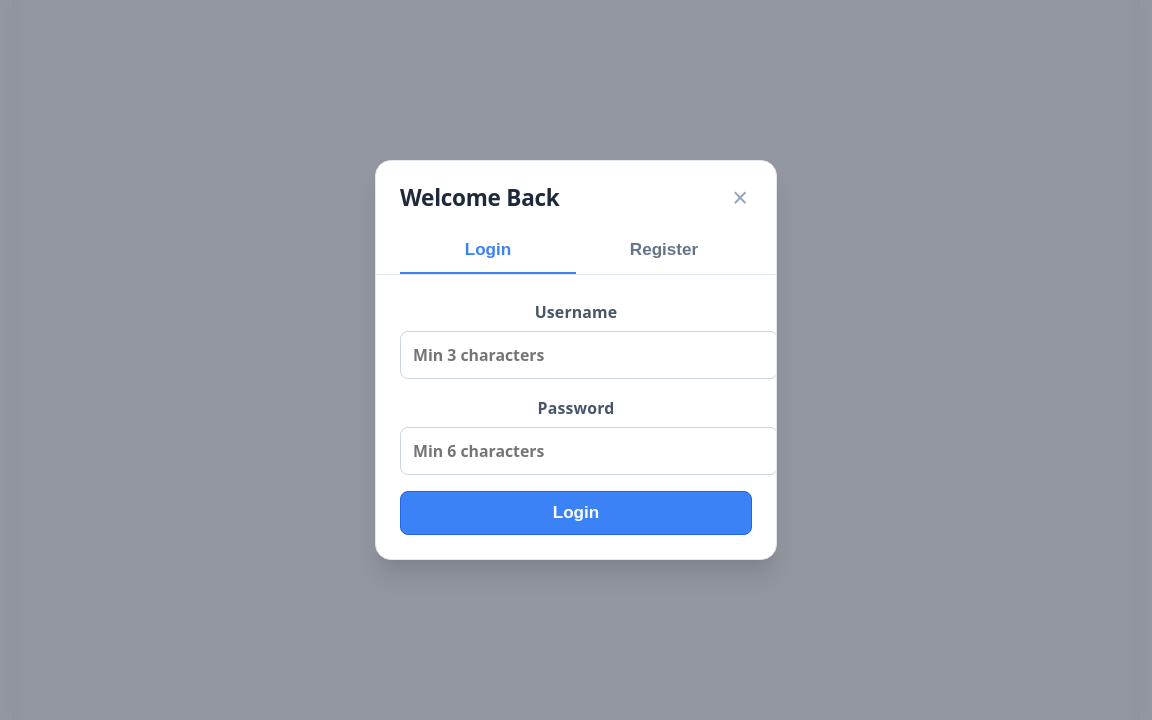
Test: AuthModal.vue › validates username (min 3 chars) and password (min 6 chars)
Note: Submit empty fields
Submit the form, box [376,275,776,559]
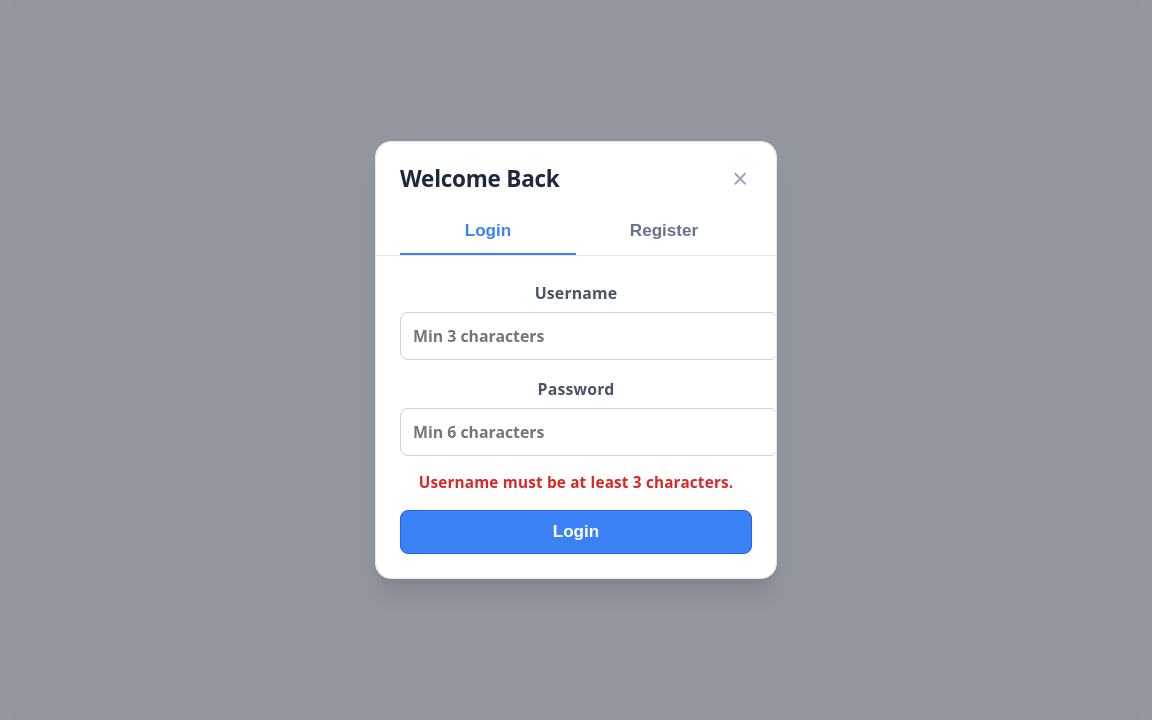
Expected: the message with test id "error" reads "Username must be at least 3 characters.", [419,472,733,492]
Note: Submit username too short
In the field with test id "username": (589, 336) [400,312,778,360], type "ab"
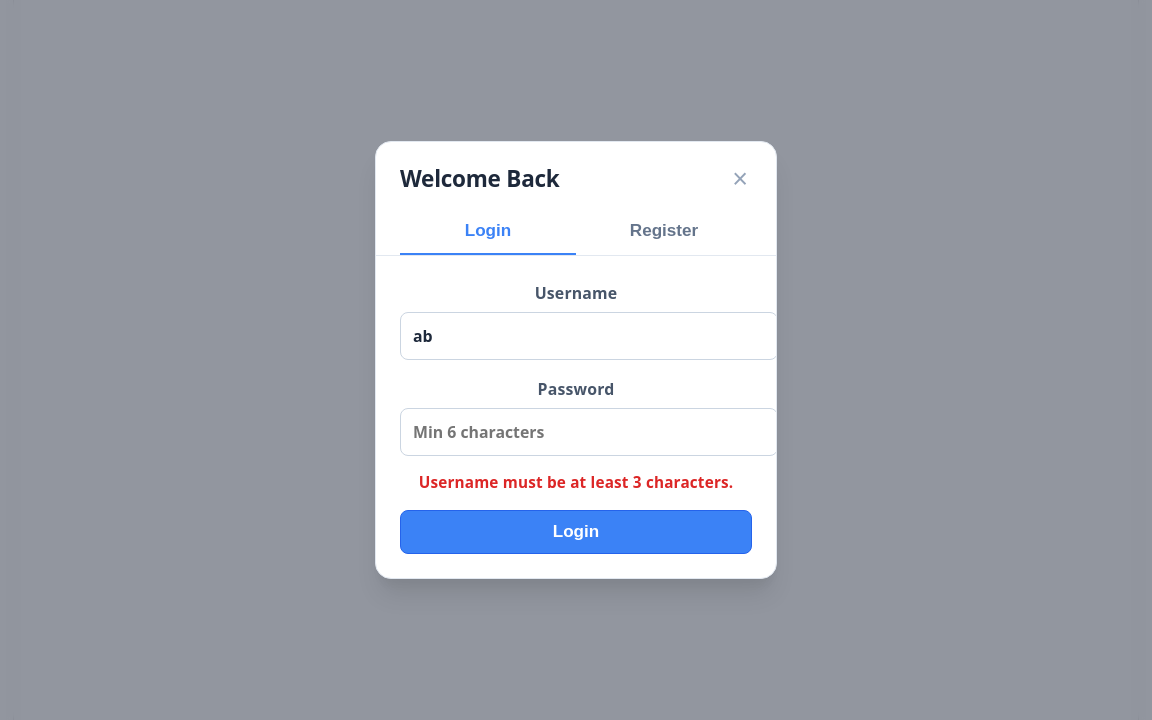
In the password field with test id "password": (589, 432) [400,408,778,456], type "123456"
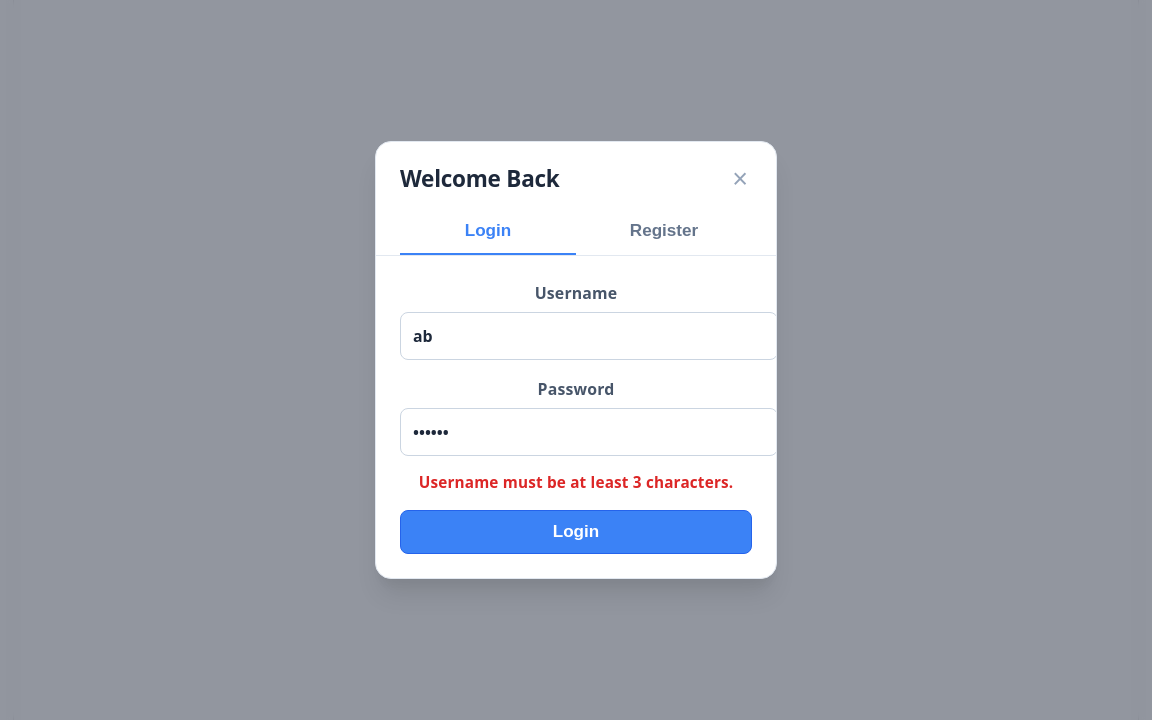
Submit the form, box [376,256,776,578]
Expected: the message with test id "error" reads "Username must be at least 3 characters.", [419,472,733,492]
Note: Submit password too short
Replace the text in the field with test id "username" with "abc": (589, 336) [400,312,778,360]
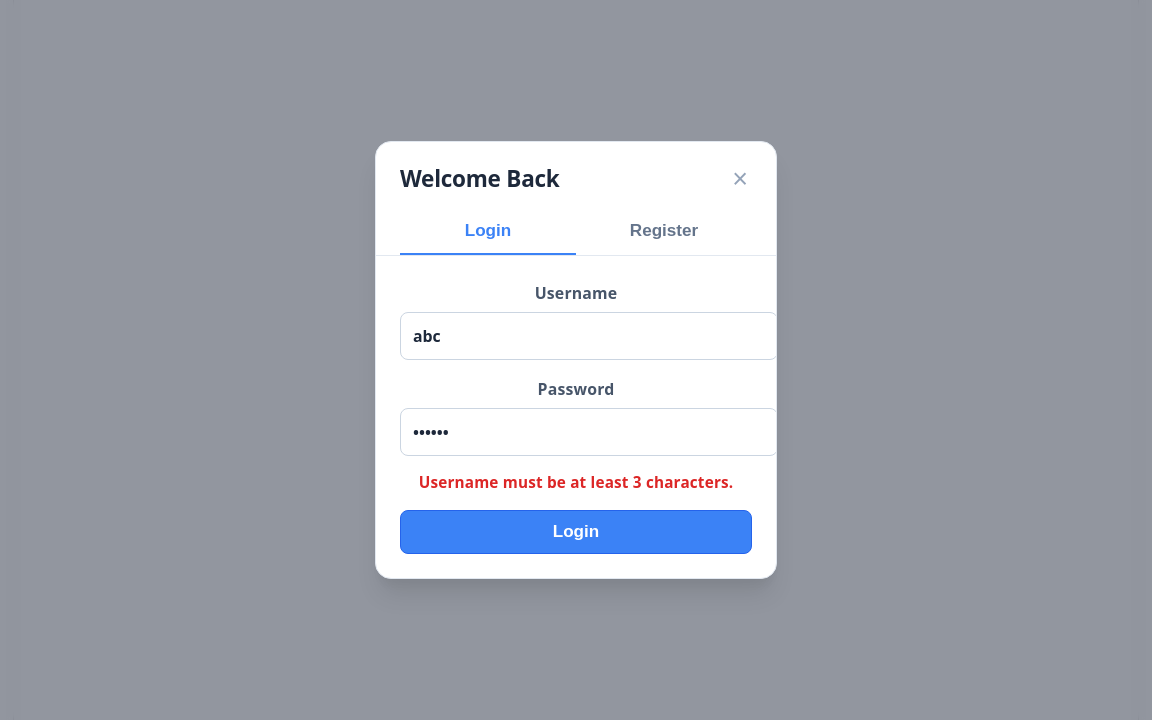
In the password field with test id "password": (589, 432) [400,408,778,456], type "12345"
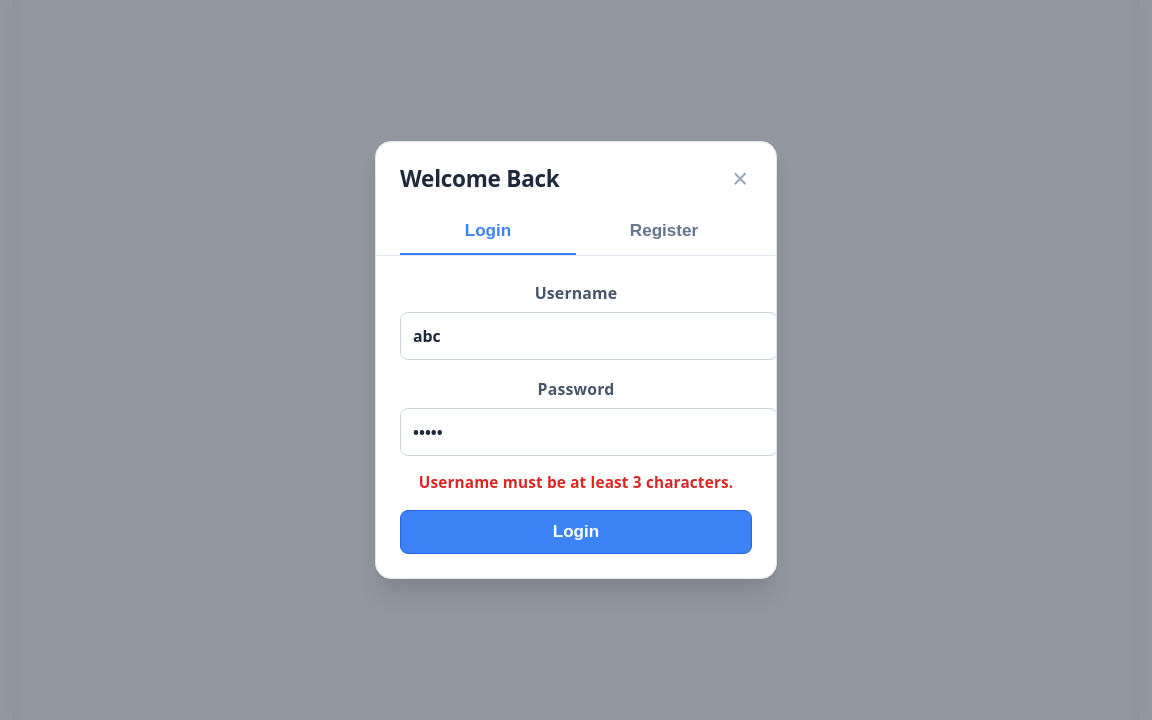
Submit the form, box [376,256,776,578]
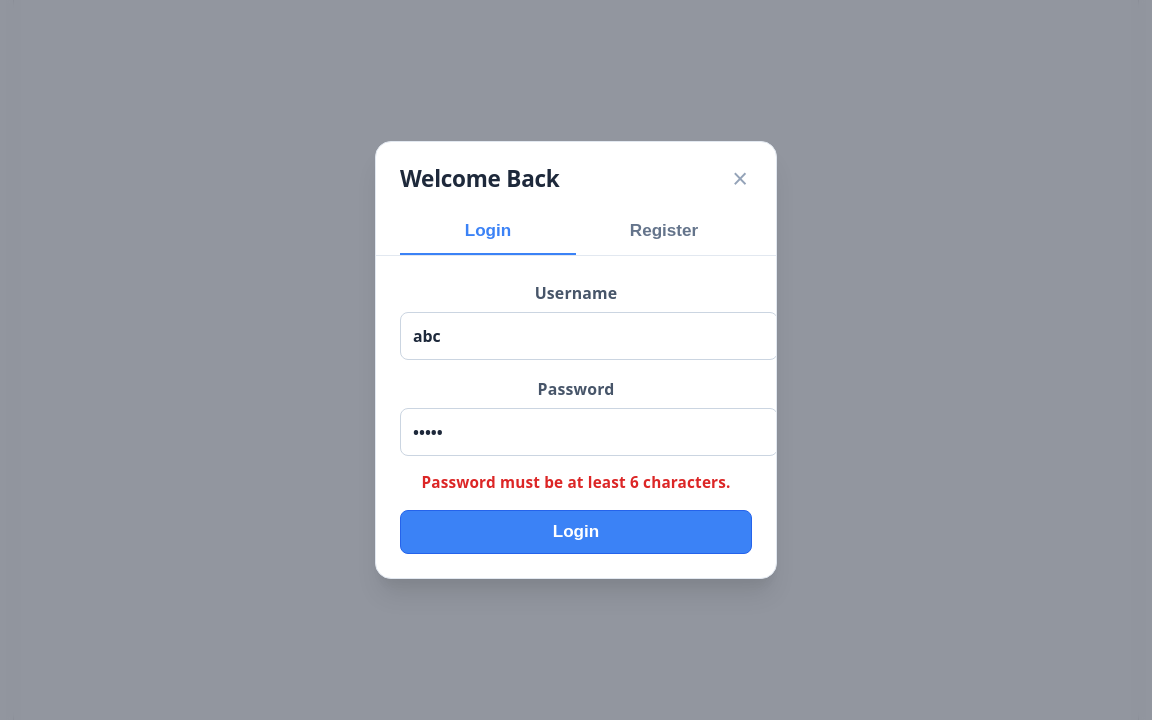
Expected: the message with test id "error" reads "Password must be at least 6 characters.", [421,472,731,492]
